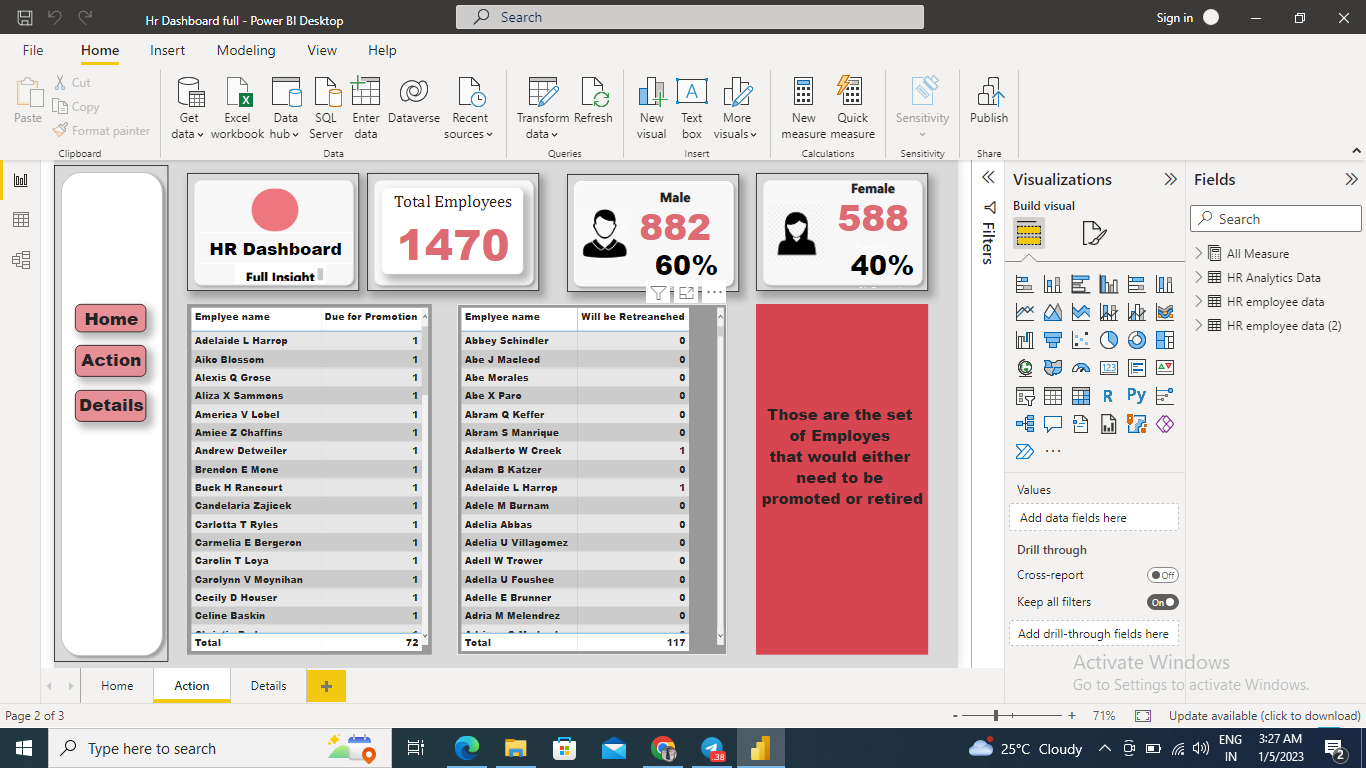

The page's visual inventory and layout, read from the dashboard file:
{"tool":"powerbi","page":{"name":"Action","canvas":[1280,720],"ordinal":1},"visuals":[{"type":"shape","box":[0,7.1,161.6,704.4],"z":0},{"type":"shape","box":[188.5,18.4,243.8,167.2],"z":1000},{"type":"shape","box":[443.6,18.4,243.8,167.2],"z":2000},{"type":"shape","box":[727.1,19.8,243.8,167.2],"z":3000},{"type":"shape","box":[995,18.4,243.8,167.2],"z":4000},{"type":"textbox","box":[202.7,102,221.1,45.4],"z":5000},{"type":"shape","box":[279.2,39.7,68,62.4],"z":6000},{"type":"textbox","box":[256.5,147.4,129,28.3],"z":7000},{"type":"card","title":"Total Employees","fields":{"Values":["All Measure.total Emp"]},"box":[464.9,39.7,199.8,121.9],"z":8000},{"type":"card","title":"Male","fields":{"Values":["All Measure.Male"]},"box":[809.3,39.7,141.7,102],"z":9000},{"type":"card","title":"Female","fields":{"Values":["All Measure.Female"]},"box":[1089.9,26.9,141.7,102],"z":10000},{"type":"card","title":"Male","fields":{"Values":["All Measure.% Male"]},"box":[839.1,129,114.8,56.7],"z":11000},{"type":"card","title":"Male","fields":{"Values":["All Measure.% Female"]},"box":[1116.9,129,114.8,56.7],"z":12000},{"type":"image","box":[1007.7,51,89.3,102],"z":13000},{"type":"image","box":[741.3,59.5,79.4,87.9],"z":14000},{"type":"tableEx","fields":{"Values":["HR employee data.Emplyee name","All Measure.Due for Promotion"]},"box":[188.5,204.1,347.2,497.5],"z":15000},{"type":"tableEx","fields":{"Values":["HR employee data.Emplyee name","All Measure.Will be Retreanched"]},"box":[571.2,204.1,382.7,497.5],"z":16000},{"type":"textbox","box":[995,204,244,497],"z":17000},{"type":"actionButton","title":"Home","box":[29.8,204.1,100.6,39.7],"z":18000},{"type":"actionButton","title":"Action","box":[29.8,262.2,100.6,45.4],"z":19000},{"type":"actionButton","title":"Details","box":[29.8,326,100.6,45.4],"z":20000}]}

Visuals, with their boxes on the page's 1280x720 design canvas (x1, y1, x2, y2). These are canvas units, not pixel positions in the 1366x768 screenshot, which may show the page scaled, cropped or inside an application window:
shape: region(0, 7, 162, 712)
shape: region(188, 18, 432, 186)
shape: region(444, 18, 687, 186)
shape: region(727, 20, 971, 187)
shape: region(995, 18, 1239, 186)
textbox: region(203, 102, 424, 147)
shape: region(279, 40, 347, 102)
textbox: region(256, 147, 386, 176)
"Total Employees" card: region(465, 40, 665, 162)
"Male" card: region(809, 40, 951, 142)
"Female" card: region(1090, 27, 1232, 129)
"Male" card: region(839, 129, 954, 186)
"Male" card: region(1117, 129, 1232, 186)
image: region(1008, 51, 1097, 153)
image: region(741, 60, 821, 147)
tableEx - HR employee data.Emplyee name x All Measure.Due for Promotion: region(188, 204, 536, 702)
tableEx - HR employee data.Emplyee name x All Measure.Will be Retreanched: region(571, 204, 954, 702)
textbox: region(995, 204, 1239, 701)
"Home" actionButton: region(30, 204, 130, 244)
"Action" actionButton: region(30, 262, 130, 308)
"Details" actionButton: region(30, 326, 130, 371)
